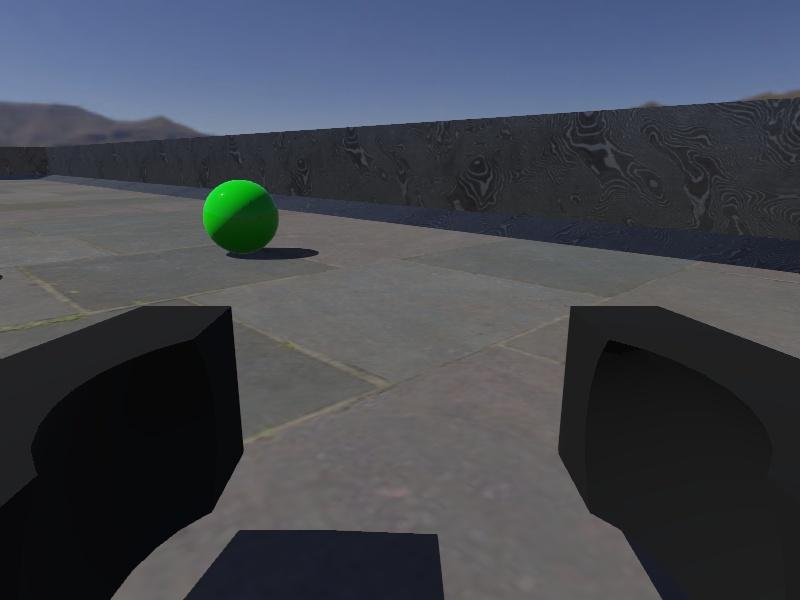green ball: (202, 178, 280, 255)
